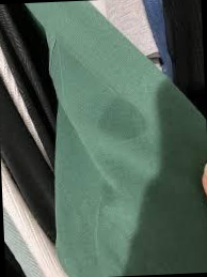oil: (95, 99, 150, 144)
